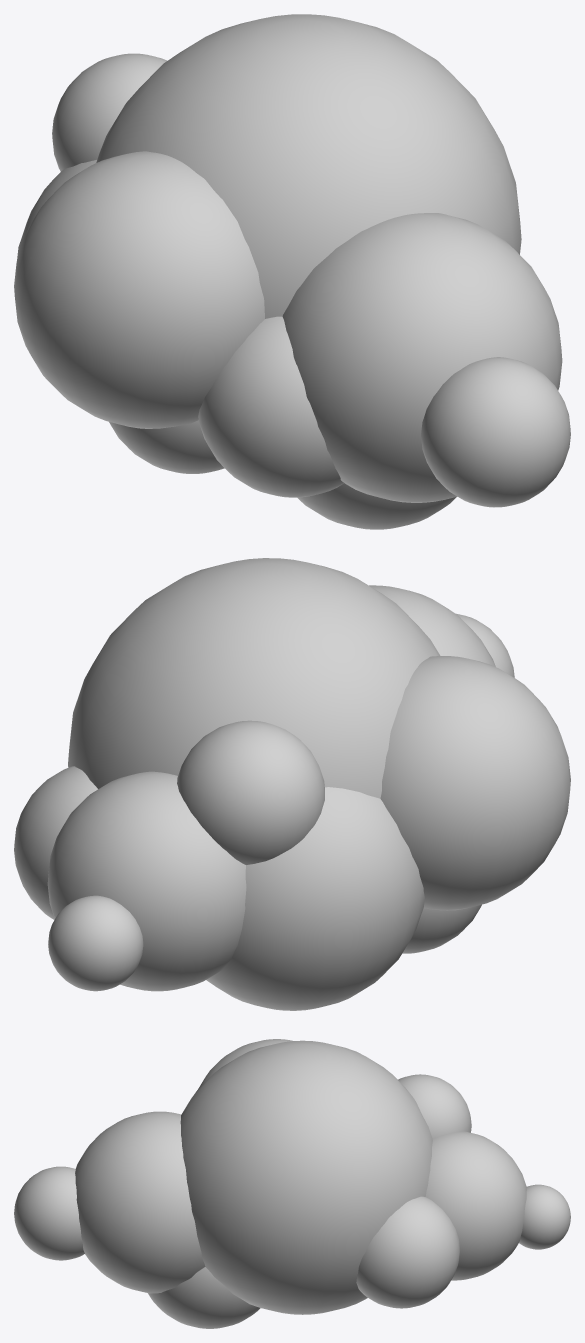
File: Cloud2_Onai.glb
3 views of the same model, one above another, from view 1: azimuth 30°, elevation 25°; view 2: azimuth 150°, elevation 25°; view 3: azimuth 270°, elevation 25° (orthographic). The views are drawn at different scales.
Visible parts, largest first — view 1: Sphere.011; view 2: Sphere.011; view 3: Sphere.011.
Boxes of the visible parts, <box> form: Sphere.011: <box>14,14,570,529</box>; Sphere.011: <box>14,558,570,1010</box>; Sphere.011: <box>14,1039,570,1328</box>.
Bounding box in the file's own units: 4.77 × 4.08 × 7.66.
Materials: 1 (1 with a texture image).
